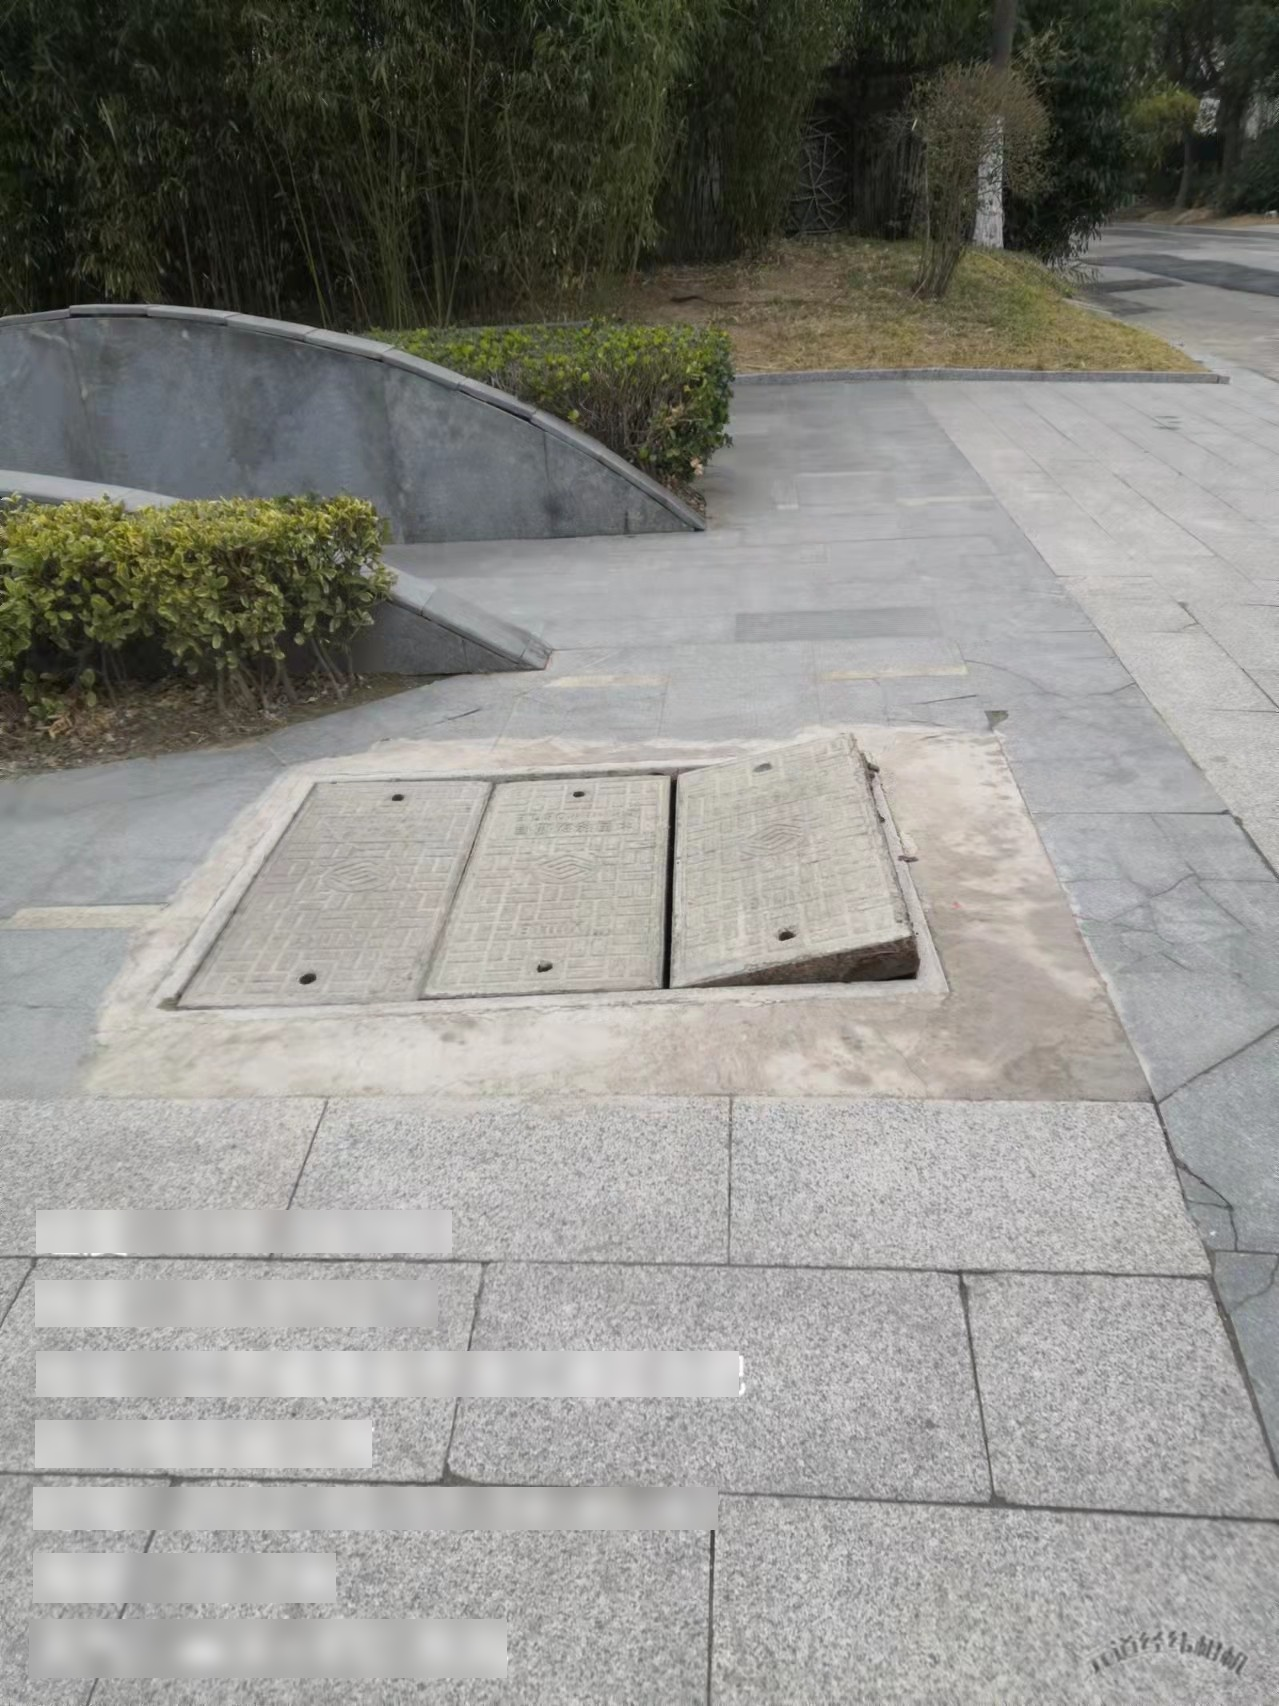uncovered: (155, 739, 947, 1034)
